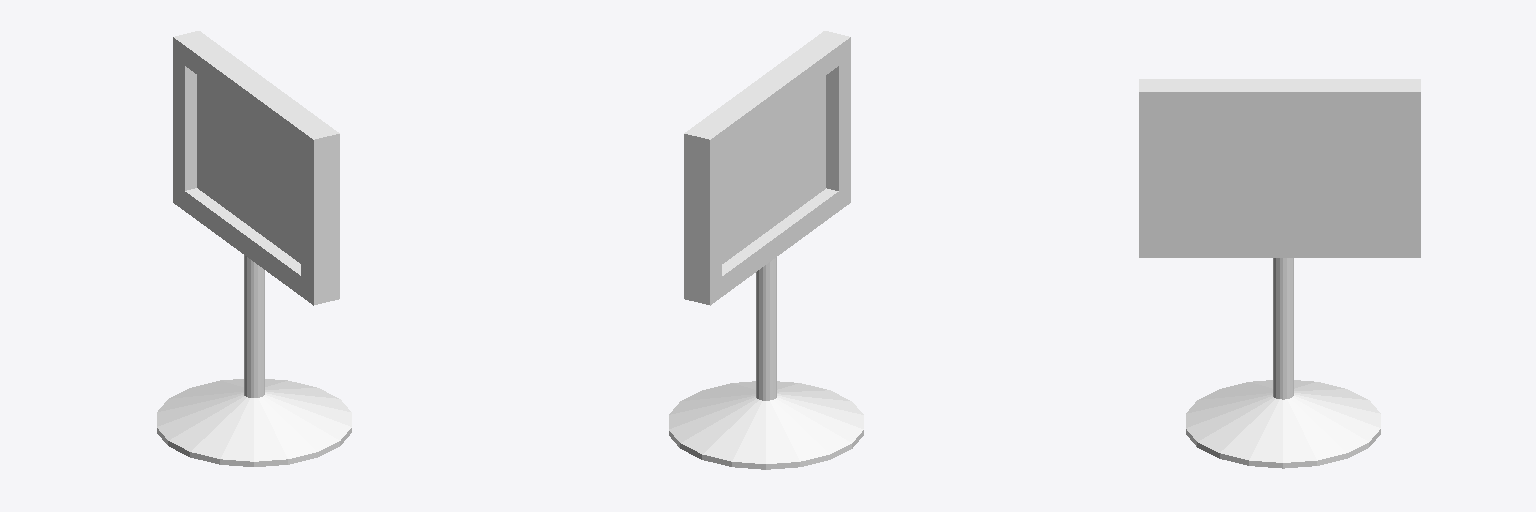
The model's file is soldout.obj.
3 renders of one model, left to right at view 1: azimuth 30°, elevation 25°; view 2: azimuth 150°, elevation 25°; view 3: azimuth 270°, elevation 25°, orthographic.
Parts seen in each view (by area): view 1: Box001; view 2: Box001; view 3: Box001.
Boxes of the visible parts, <box> form: Box001: <box>157,31,351,466</box>; Box001: <box>669,31,863,469</box>; Box001: <box>1139,79,1420,468</box>.
Size of the model in its own units: 34.14 by 64.78 by 48.36.